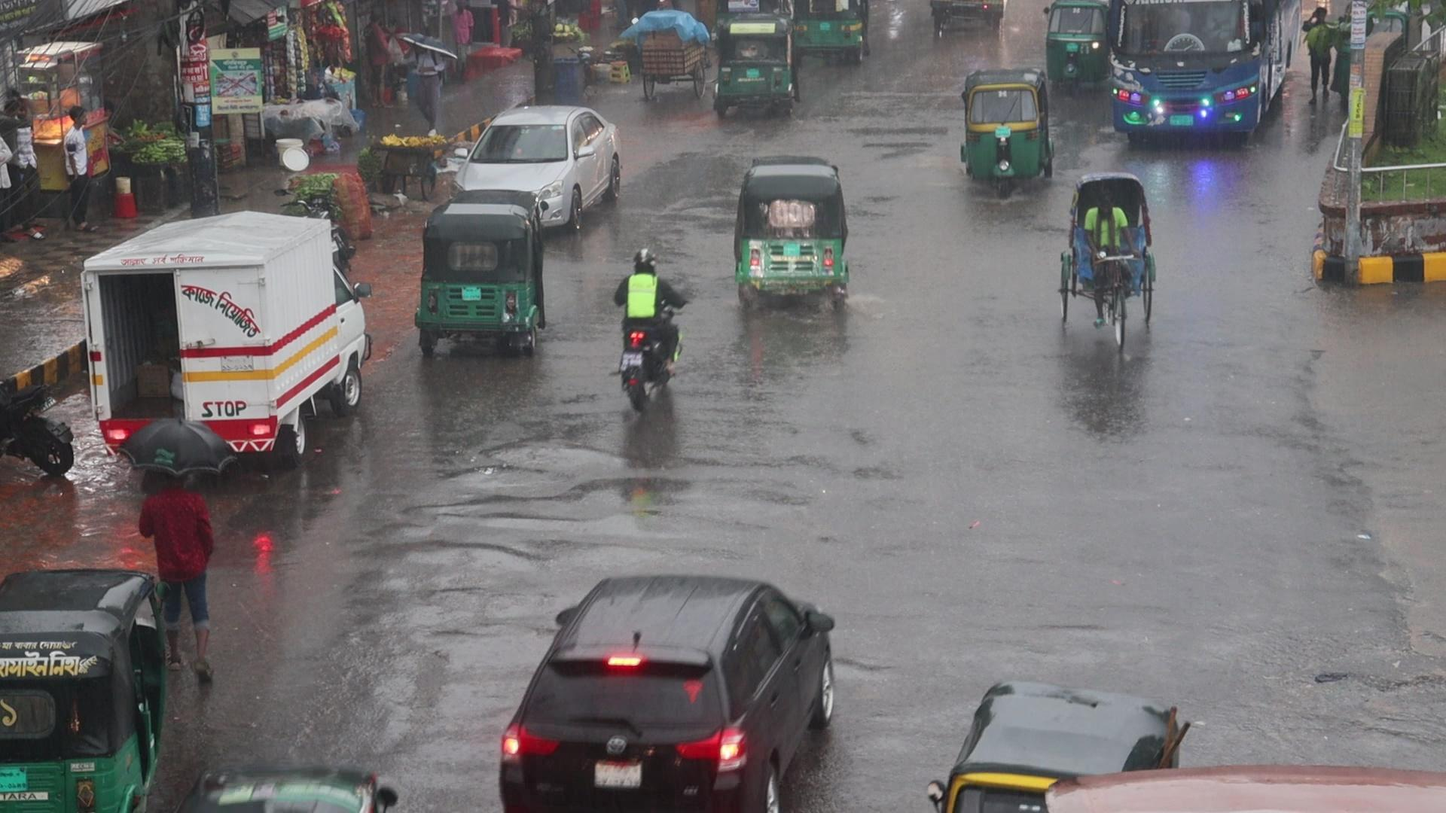Bike: (612, 246, 690, 412)
Car: (500, 571, 834, 813)
